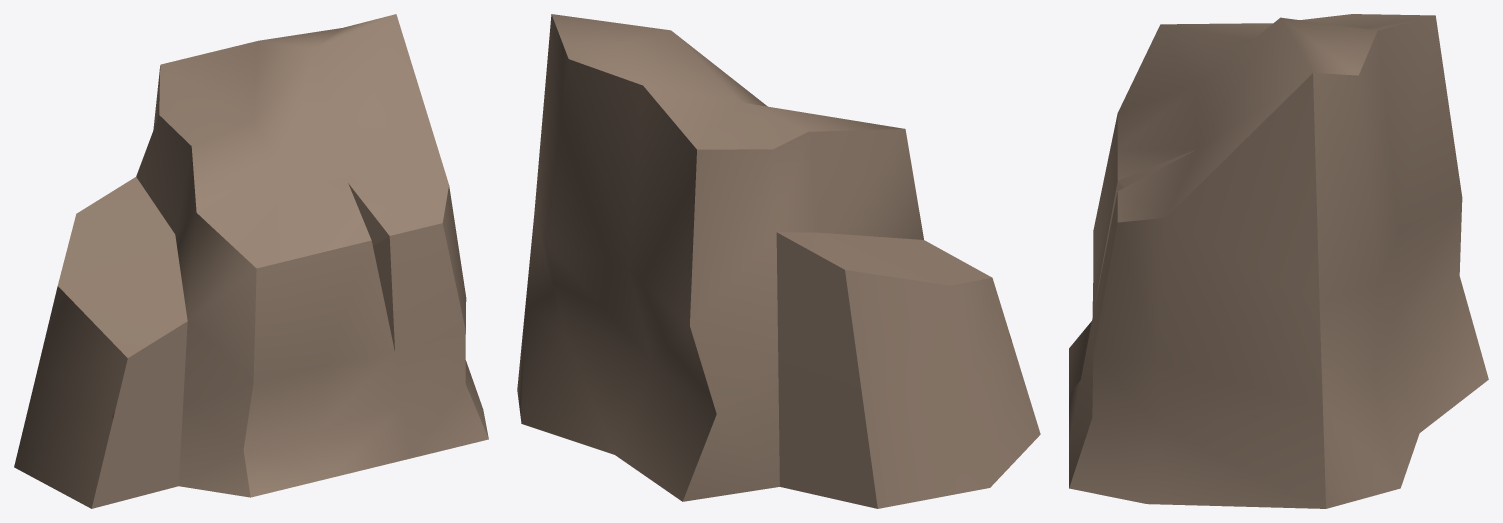
File: Rock1.FBX
3 renders of one model, left to right at view 1: azimuth 30°, elevation 25°; view 2: azimuth 150°, elevation 25°; view 3: azimuth 270°, elevation 25°, orthographic. The views are drawn at different scales.
Visible parts, largest first — view 1: Rock1; view 2: Rock1; view 3: Rock1.
Part boxes in pixels (x1=…): Rock1: x1=14, y1=14, x2=488, y2=508; Rock1: x1=517, y1=14, x2=1040, y2=508; Rock1: x1=1069, y1=14, x2=1488, y2=508.
Bounding box in the file's own units: 168 × 134 × 121.
